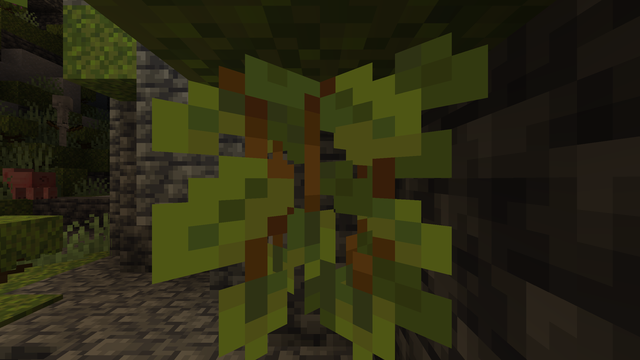cochons: (2, 171, 59, 199)
squelettes: (47, 95, 76, 147)
